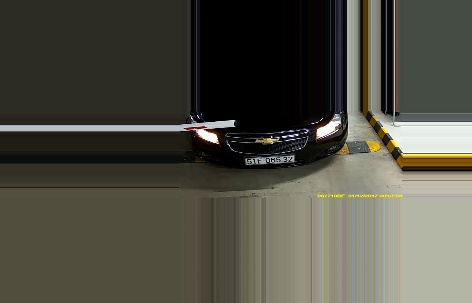plate: (243, 154, 296, 165)
